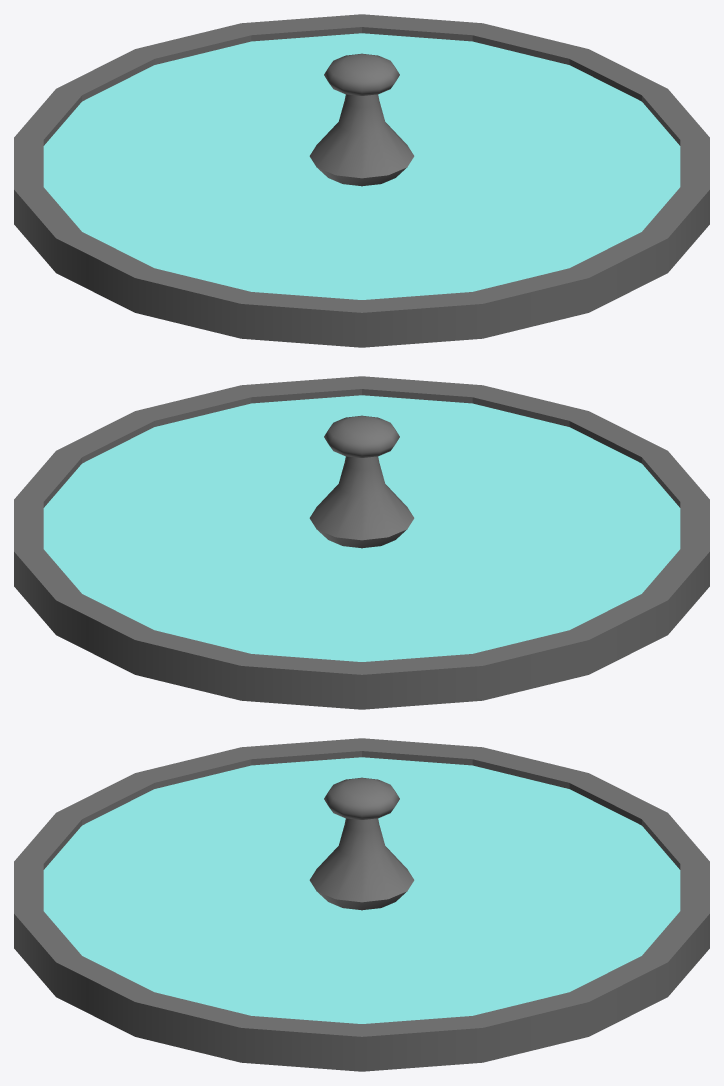
File: fountain.FBX
3 renders of one model, top to bottom at view 1: azimuth 30°, elevation 25°; view 2: azimuth 150°, elevation 25°; view 3: azimuth 270°, elevation 25°, orthographic.
Parts seen in each view (by area): view 1: fountain; view 2: fountain; view 3: fountain.
Part boxes in pixels (bbox=[...]): fountain: bbox=[14, 14, 709, 347]; fountain: bbox=[14, 376, 709, 709]; fountain: bbox=[14, 738, 709, 1071].
Bounding box in the file's own units: 20 × 4.31 × 19.7.
